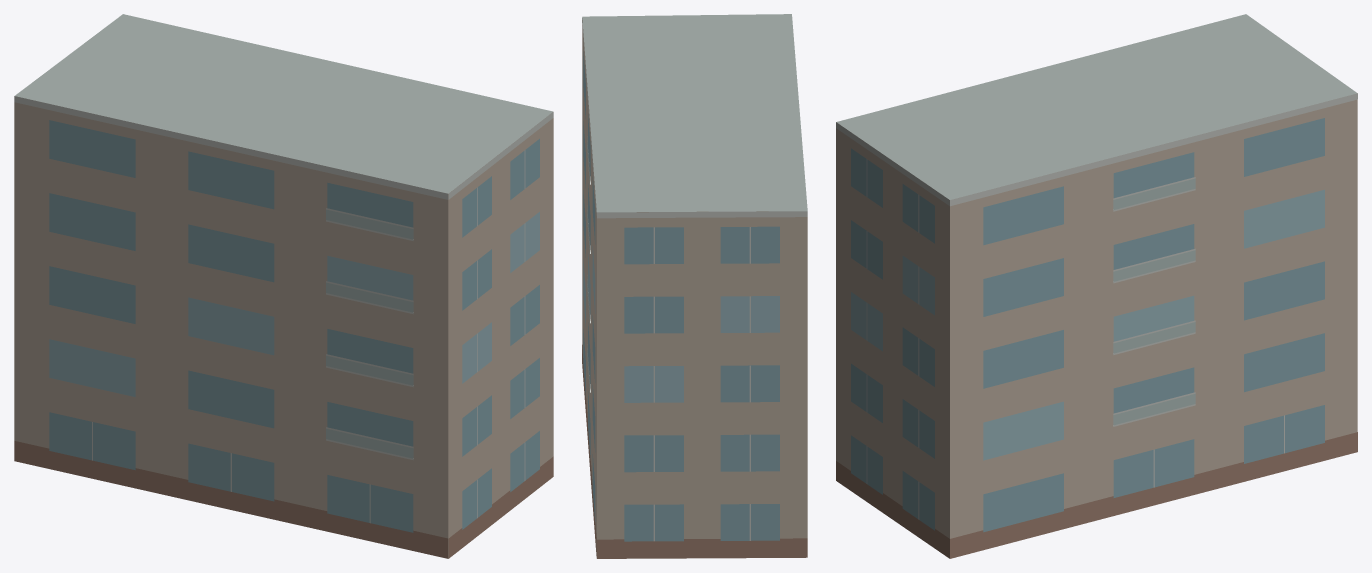
File: survey-upis-33005891.glb
The picture shows the model from 3 angles, left to right: view 1: azimuth 30°, elevation 25°; view 2: azimuth 150°, elevation 25°; view 3: azimuth 270°, elevation 25°; orthographic projection. The views are drawn at different scales.
Visible parts, largest first — view 1: survey-upis-33005891.tmp; view 2: survey-upis-33005891.tmp; view 3: survey-upis-33005891.tmp.
Part boxes in pixels (x1=…): survey-upis-33005891.tmp: x1=14, y1=14, x2=553, y2=558; survey-upis-33005891.tmp: x1=582, y1=14, x2=807, y2=558; survey-upis-33005891.tmp: x1=836, y1=14, x2=1357, y2=558.
Size of the model in its own units: 15.92 by 14.3 by 18.86.
